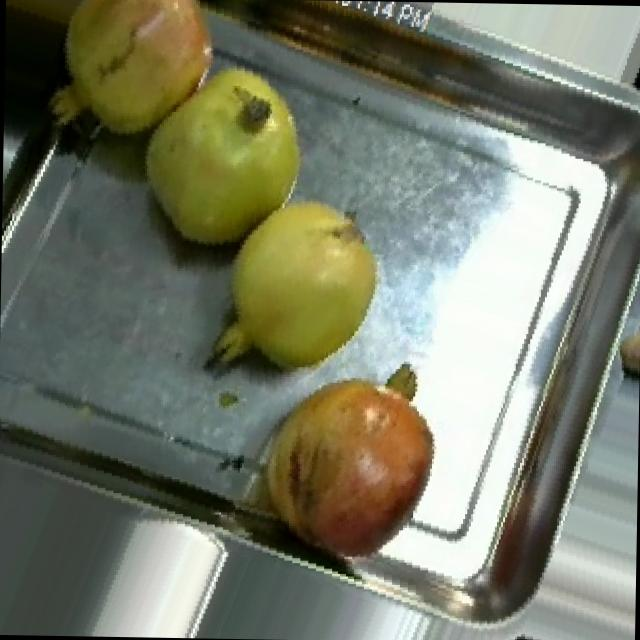fruit: (236, 343, 464, 593), (192, 171, 408, 396), (122, 55, 332, 274), (44, 0, 237, 159)
